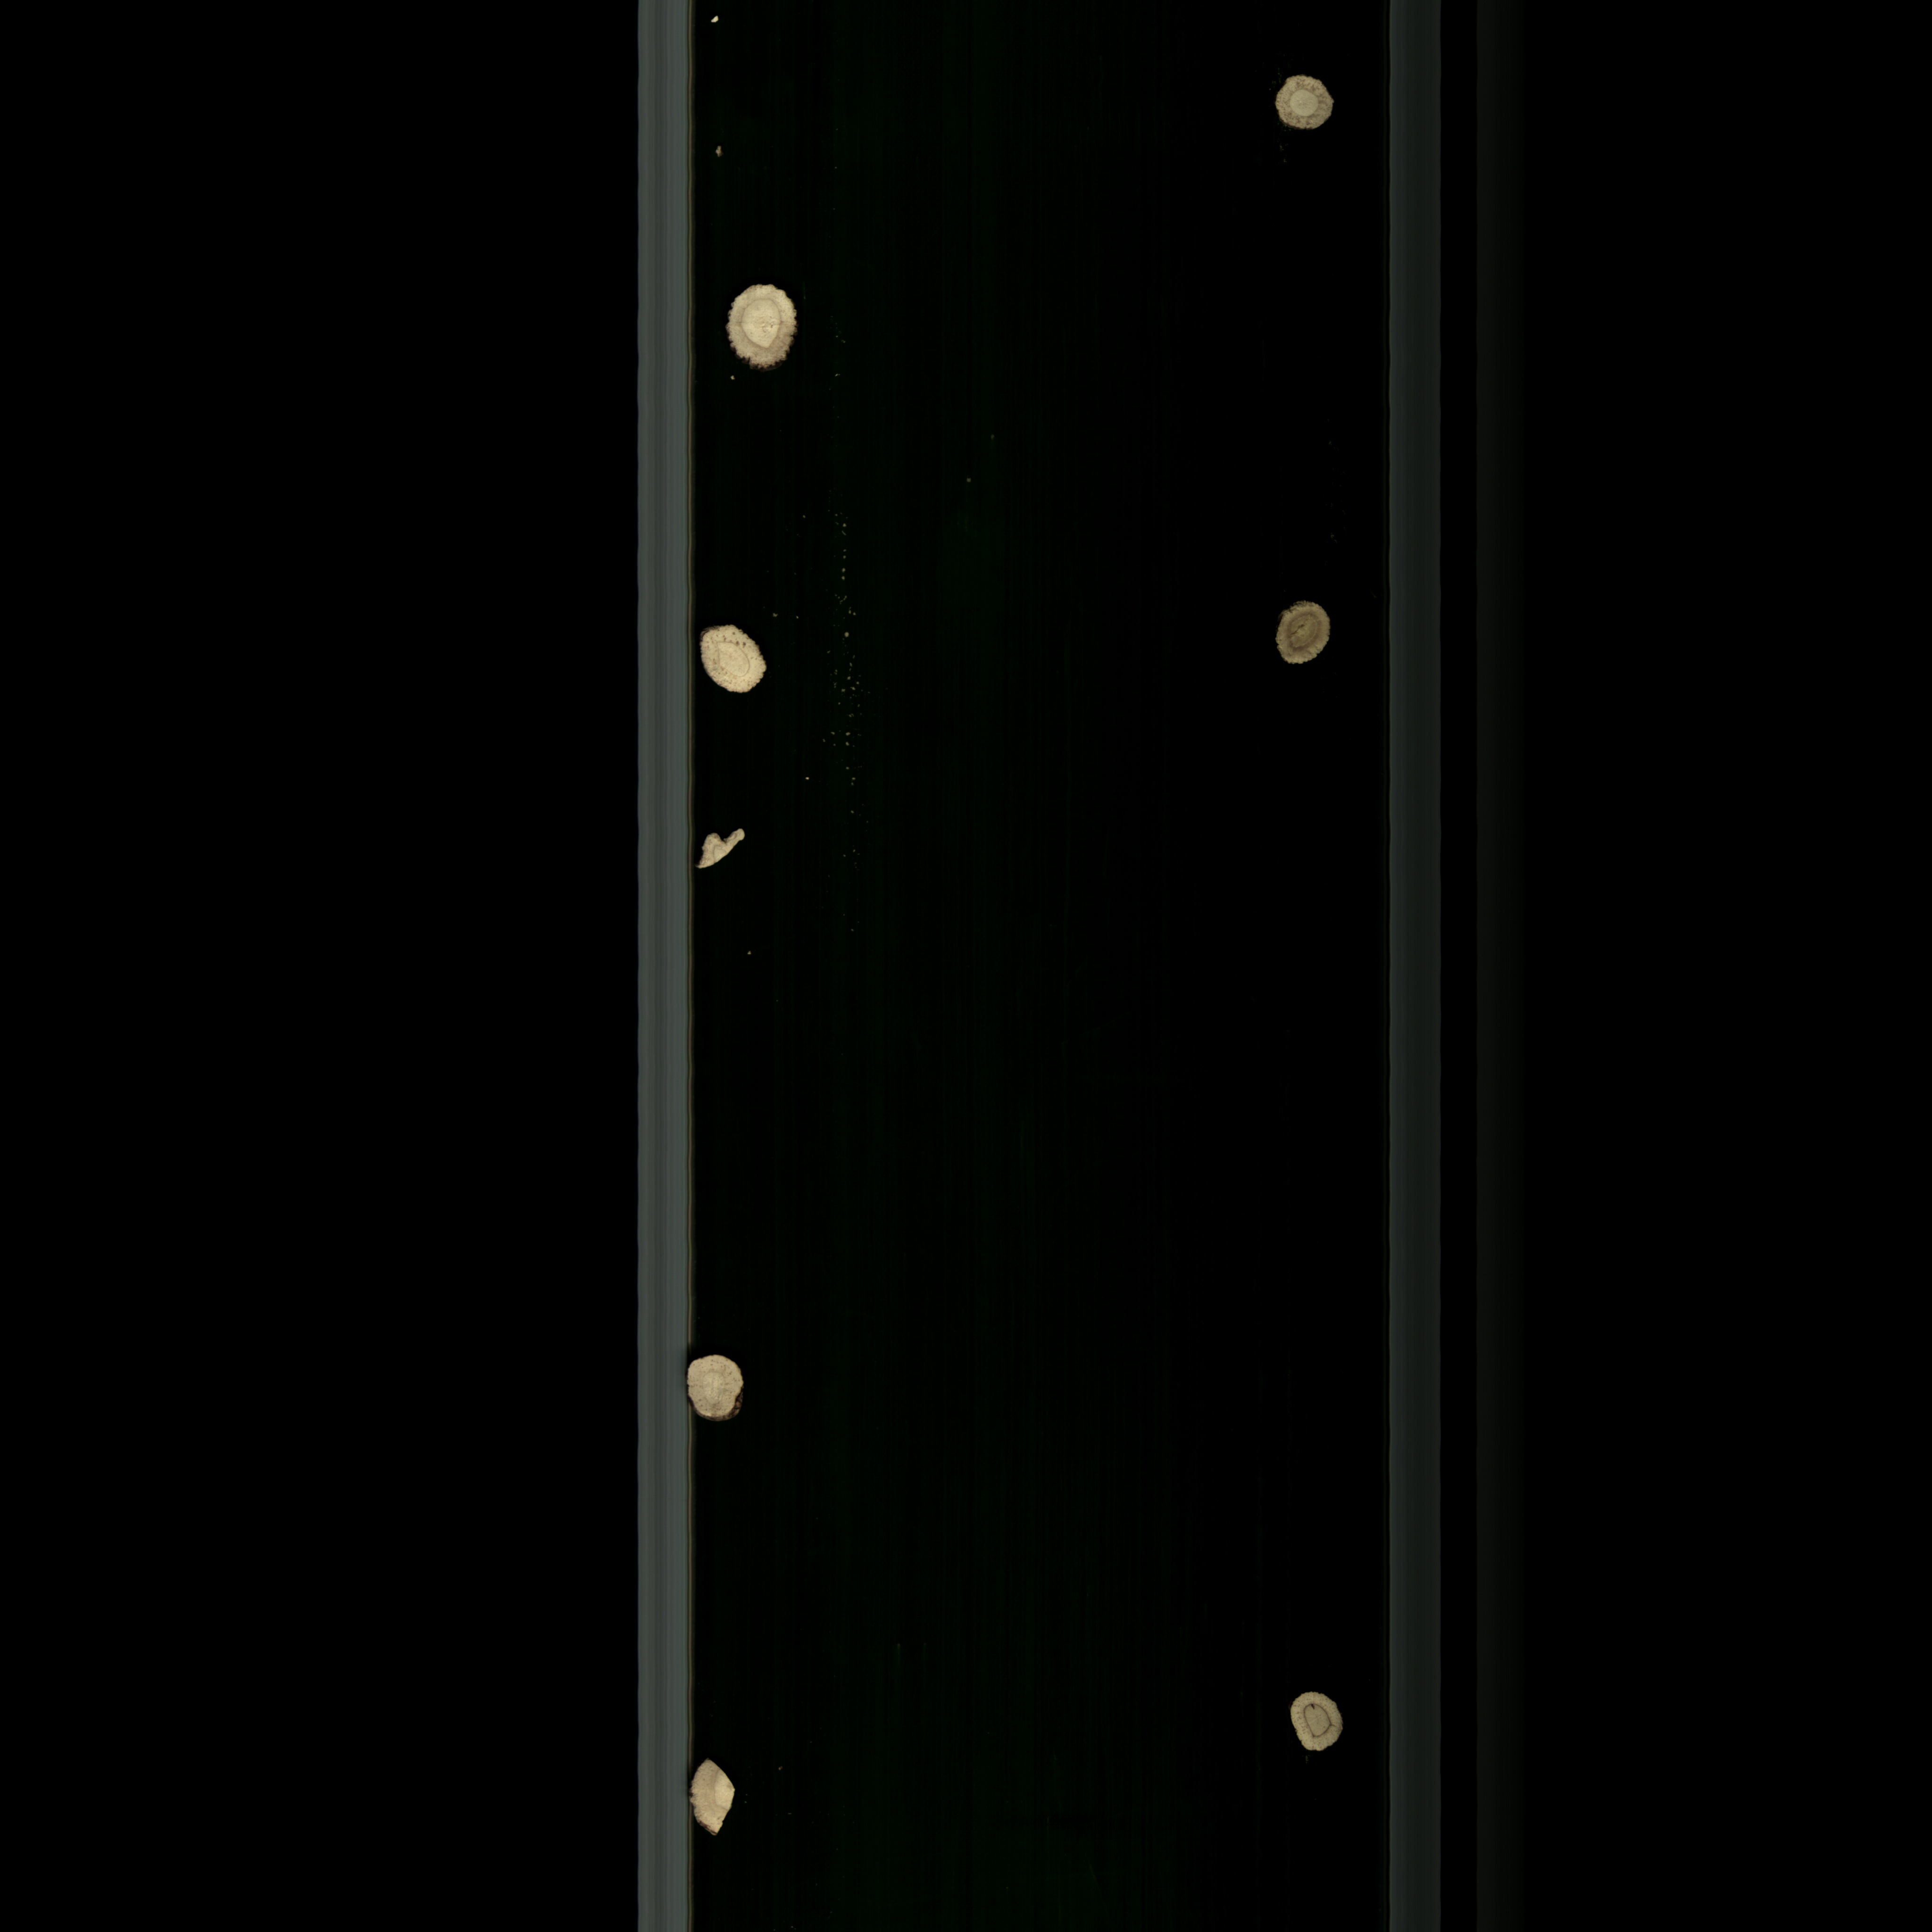debris: (690, 1752, 748, 1840)
distortion: (697, 619, 775, 697)
dreg: (695, 823, 755, 885), (706, 14, 732, 34)
hole: (1290, 1683, 1345, 1767)
moldy: (1263, 593, 1343, 683), (1270, 67, 1348, 145)
